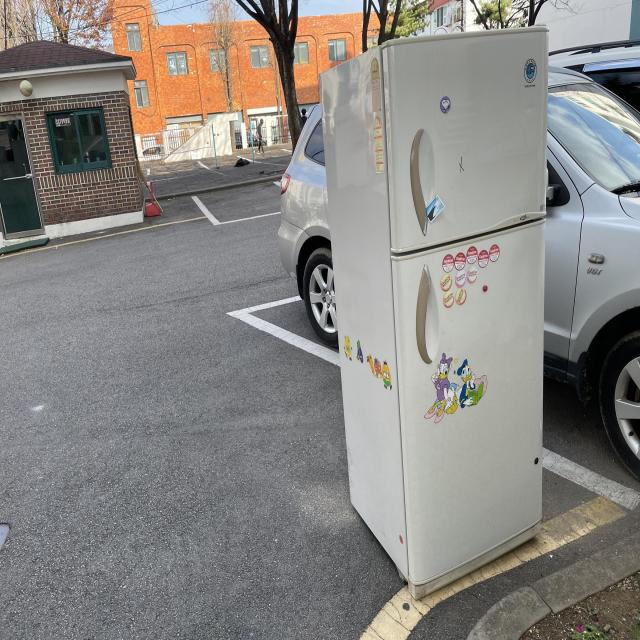refrigerator: (319, 22, 548, 599)
